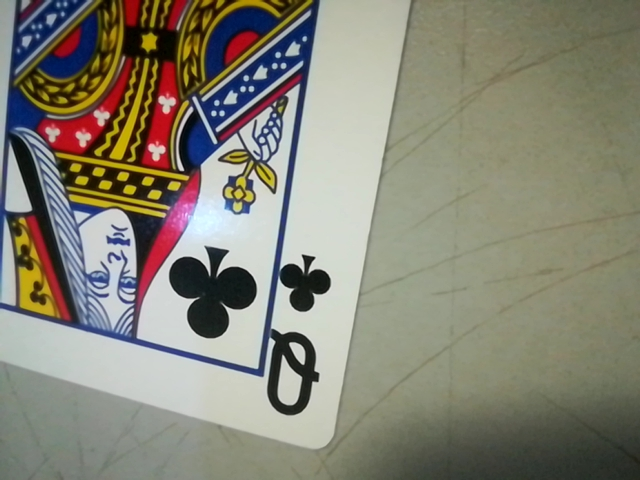mh q: (260, 246, 340, 428)
